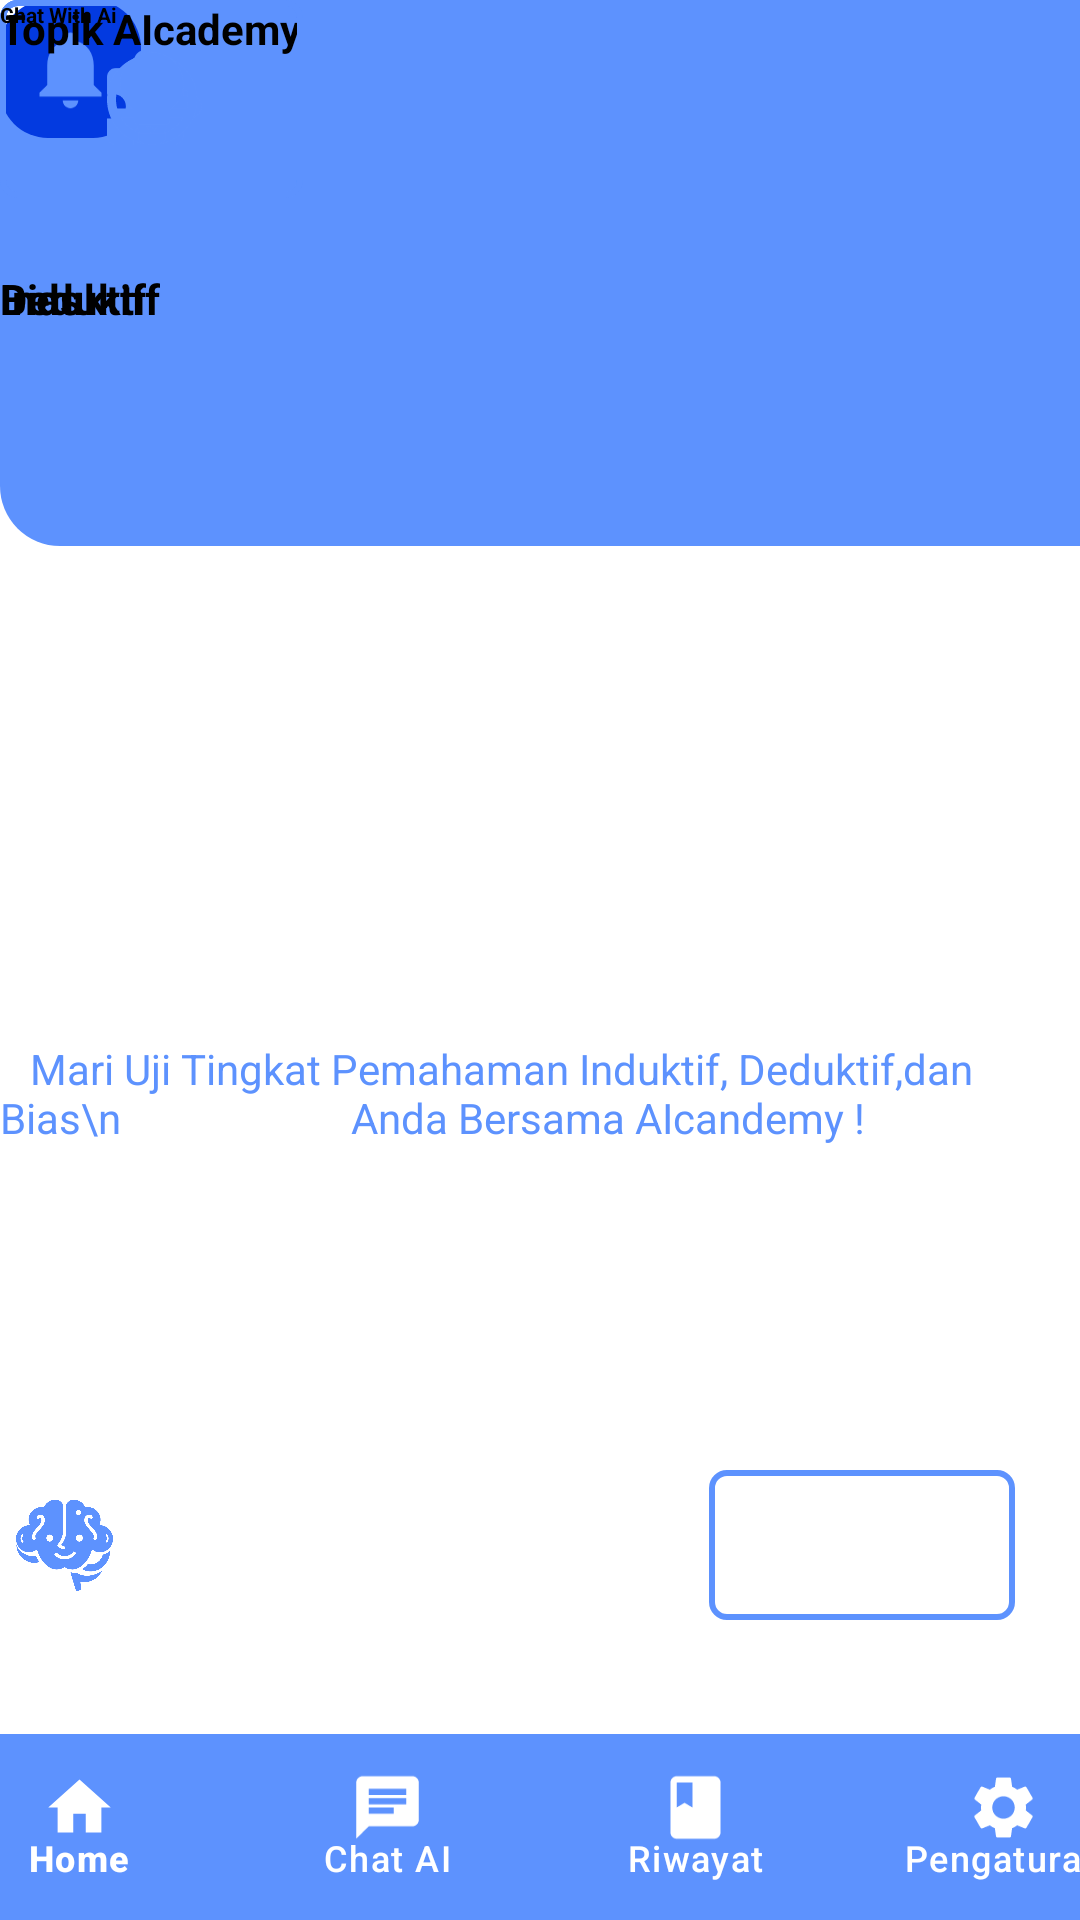

Named icons in this screenshot (1080×1920) and their bounding boxes, (x1, y1, x2, y2):
notifications: (24, 23, 117, 116)
